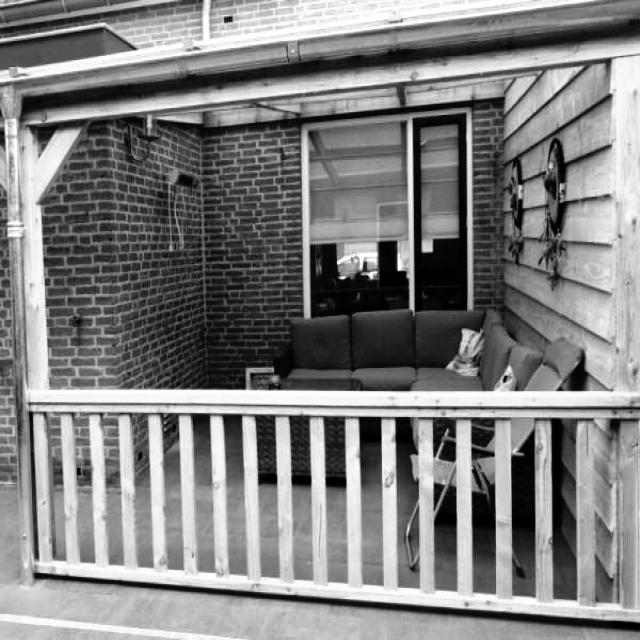fences: (38, 392, 640, 611)
